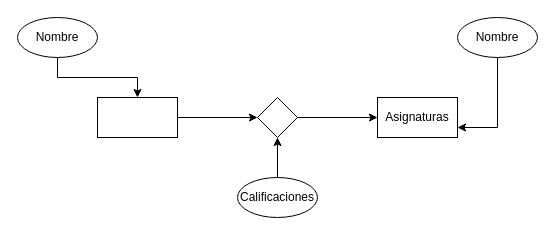
The diagram is 555 pixels wide and 235 high, and some of its shapes have lost their labels. Here are the shapes that lost their labels. From the top down, the centre of each, then its label:
At point 137,117: "Alumnos".
At point 277,117: "Tienen".
